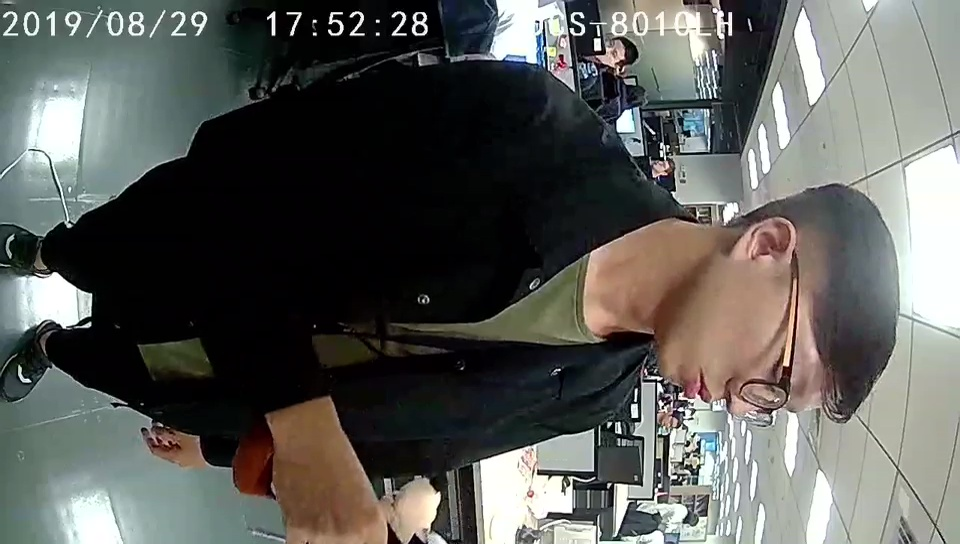goofy: (234, 426, 454, 544)
